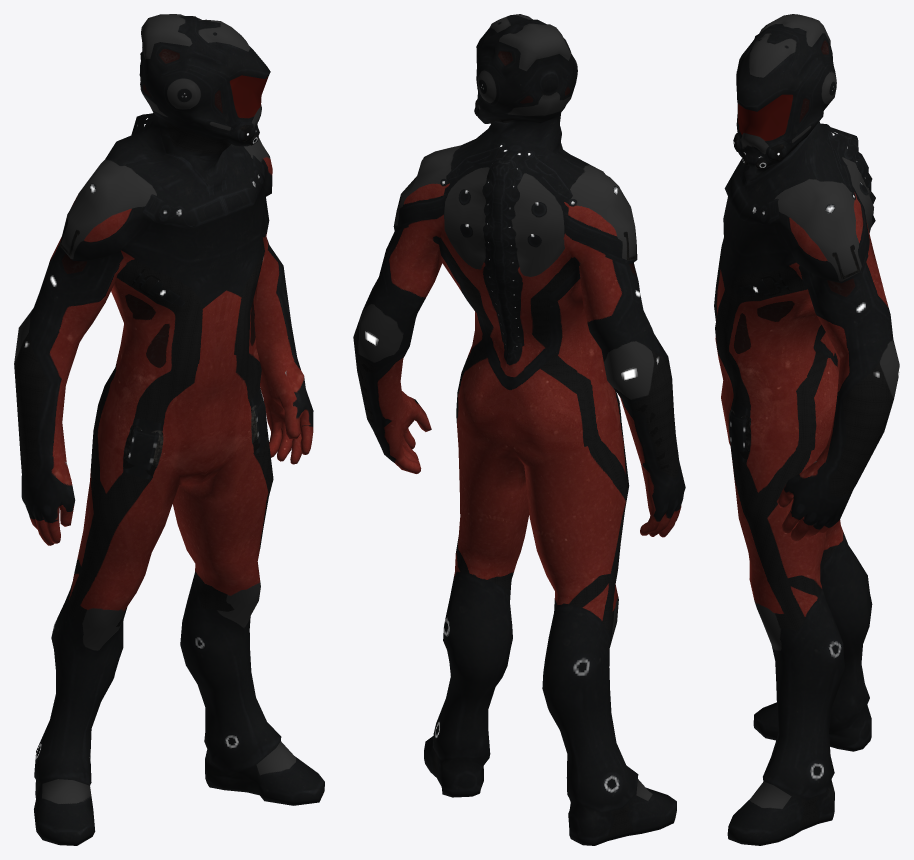
The picture shows the model from 3 angles, left to right: view 1: azimuth 30°, elevation 25°; view 2: azimuth 150°, elevation 25°; view 3: azimuth 270°, elevation 25°; orthographic projection. The views are drawn at different scales.
Size of the model in its own units: 0.7668 by 1.98 by 0.4351.
1 material, 1 textured.
